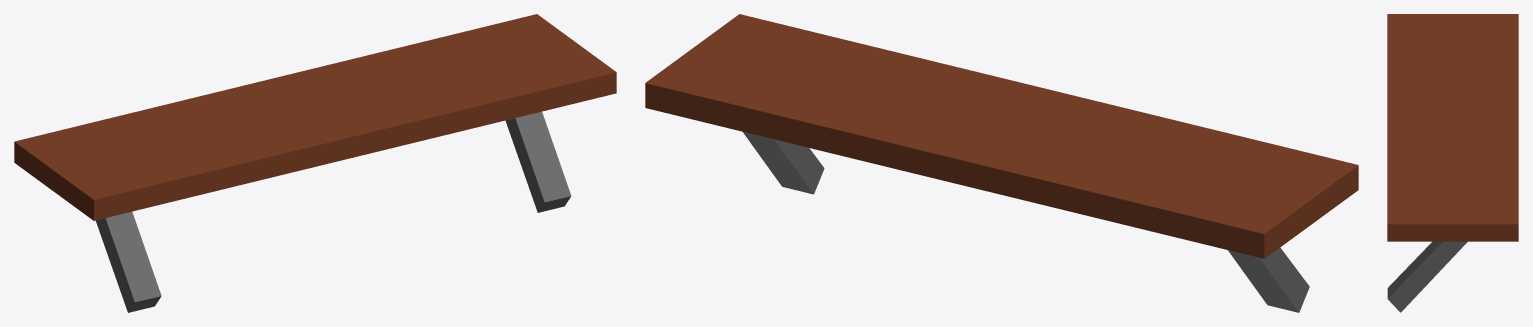
Rendered from Shelf.fbx.
3 renders of one model, left to right at view 1: azimuth 30°, elevation 25°; view 2: azimuth 150°, elevation 25°; view 3: azimuth 270°, elevation 25°, orthographic. The views are drawn at different scales.
Visible parts, largest first — view 1: Cube; view 2: Cube; view 3: Cube.
Boxes of the visible parts, x1=… form: Cube: x1=14, y1=14, x2=616, y2=312; Cube: x1=645, y1=14, x2=1358, y2=312; Cube: x1=1387, y1=14, x2=1518, y2=312.
Bounding box in the file's own units: 758 × 179 × 200.
1 material, 1 textured.
